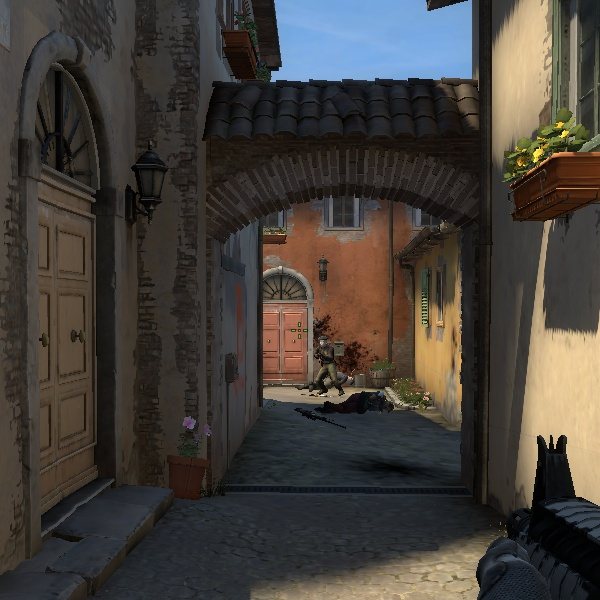ct_body: (306, 351, 347, 397)
